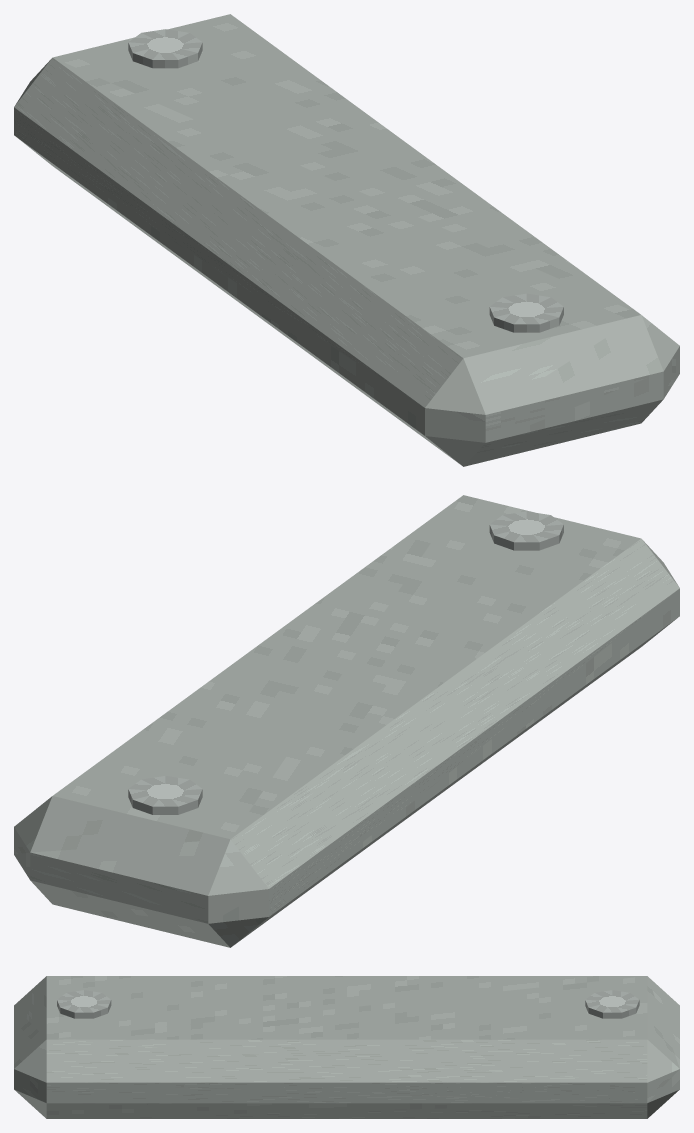
File: knife_folding.glb
3 renders of one model, top to bottom at view 1: azimuth 30°, elevation 25°; view 2: azimuth 150°, elevation 25°; view 3: azimuth 270°, elevation 25°, orthographic. The views are drawn at different scales.
Parts seen in each view (by area): view 1: block_closed folding tool case, block_pivot (×2); view 2: block_closed folding tool case, block_pivot (×2); view 3: block_closed folding tool case, block_pivot (×2).
Boxes of the visible parts, x1,y1,x2,y2 form: block_closed folding tool case: (14,14,679,466); block_pivot (×2): (128,29,563,332); block_closed folding tool case: (14,495,679,947); block_pivot (×2): (128,511,563,814); block_closed folding tool case: (14,976,679,1118); block_pivot (×2): (57,990,639,1018).
Bounding box in the file's own units: 0.0323 × 0.0142 × 0.1.
1 material, 1 textured.
